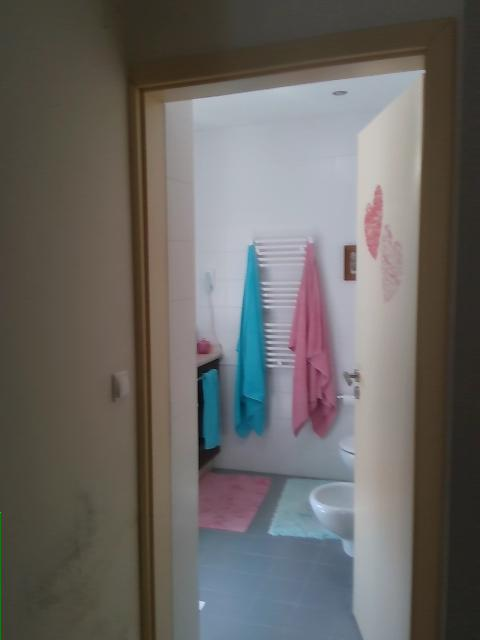open_door: (128, 18, 465, 639)
